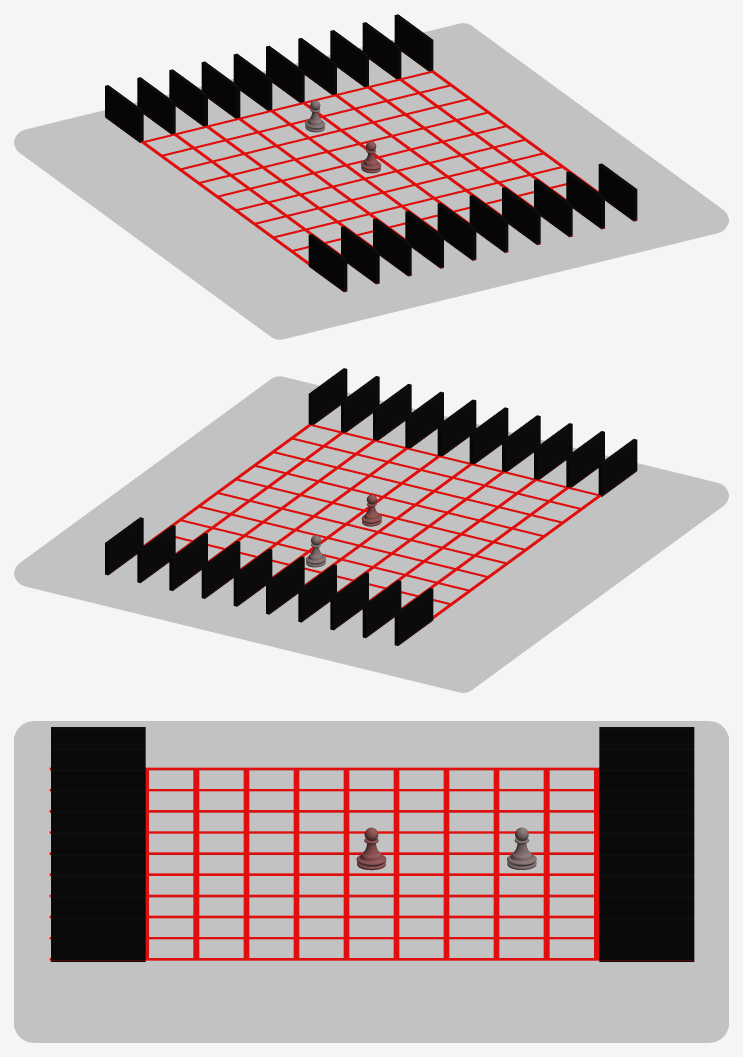
The model's file is quoridor.glb.
3 renders of one model, top to bottom at view 1: azimuth 30°, elevation 25°; view 2: azimuth 150°, elevation 25°; view 3: azimuth 270°, elevation 25°, orthographic. The views are drawn at different scales.
Visible parts, largest first — view 1: Board, line_7 (×2), line_8 (×2), line_10 (×2), line_3 (×2), line_4 (×2), line_9 (×2), wall_11, line_5 (×2), wall_15, wall_20, wall_16 (+19 smaller); view 2: Board, line_1 (×2), line_7 (×2), line_4 (×2), line_2 (×2), line_3 (×2), line_8 (×2), wall_1, wall_11, line_6 (×2), wall_2, wall_6 (+19 smaller); view 3: Board, wall_10, wall_20, line_7 (×2), line_8 (×2), line_10 (×2), line_9 (×2), line_2 (×2), line_3 (×2), line_6 (×2), line_4 (×2), line_1 (×2) (+21 smaller).
Boxes of the visible parts, box(x1,y1,x2,y2) form: Board: box(14, 23, 728, 339); line_7 (×2): box(199, 74, 540, 244); line_8 (×2): box(180, 66, 572, 236); line_10 (×2): box(144, 51, 637, 220); line_3 (×2): box(176, 105, 562, 275); line_4 (×2): box(208, 97, 543, 267); line_9 (×2): box(162, 58, 605, 228); wall_11: box(308, 234, 347, 292); line_5 (×2): box(236, 90, 524, 259); wall_15: box(437, 202, 476, 260); wall_20: box(598, 163, 637, 221); wall_16: box(469, 195, 508, 252); Board: box(14, 376, 728, 692); line_1 (×2): box(311, 424, 636, 643); line_7 (×2): box(199, 430, 487, 597); line_4 (×2): box(255, 452, 543, 620); line_2 (×2): box(292, 438, 596, 636); line_3 (×2): box(273, 451, 564, 628); line_8 (×2): box(173, 422, 468, 590); wall_1: box(394, 588, 433, 645); wall_11: box(598, 439, 637, 496); line_6 (×2): box(217, 436, 506, 604); wall_2: box(362, 580, 401, 637); wall_6: box(233, 548, 272, 606); Board: box(14, 721, 728, 1042); wall_10: box(599, 917, 694, 961); wall_20: box(51, 917, 145, 961); line_7 (×2): box(49, 770, 598, 958); line_8 (×2): box(49, 770, 599, 958); line_10 (×2): box(49, 770, 692, 960); line_9 (×2): box(49, 770, 599, 957); line_2 (×2): box(49, 770, 598, 957); line_3 (×2): box(49, 770, 598, 958); line_6 (×2): box(49, 769, 598, 958); line_4 (×2): box(49, 770, 598, 957); line_1 (×2): box(49, 767, 599, 958).
Size of what is drawn, in the model's own units: 0.8 by 0.0925 by 0.8.
